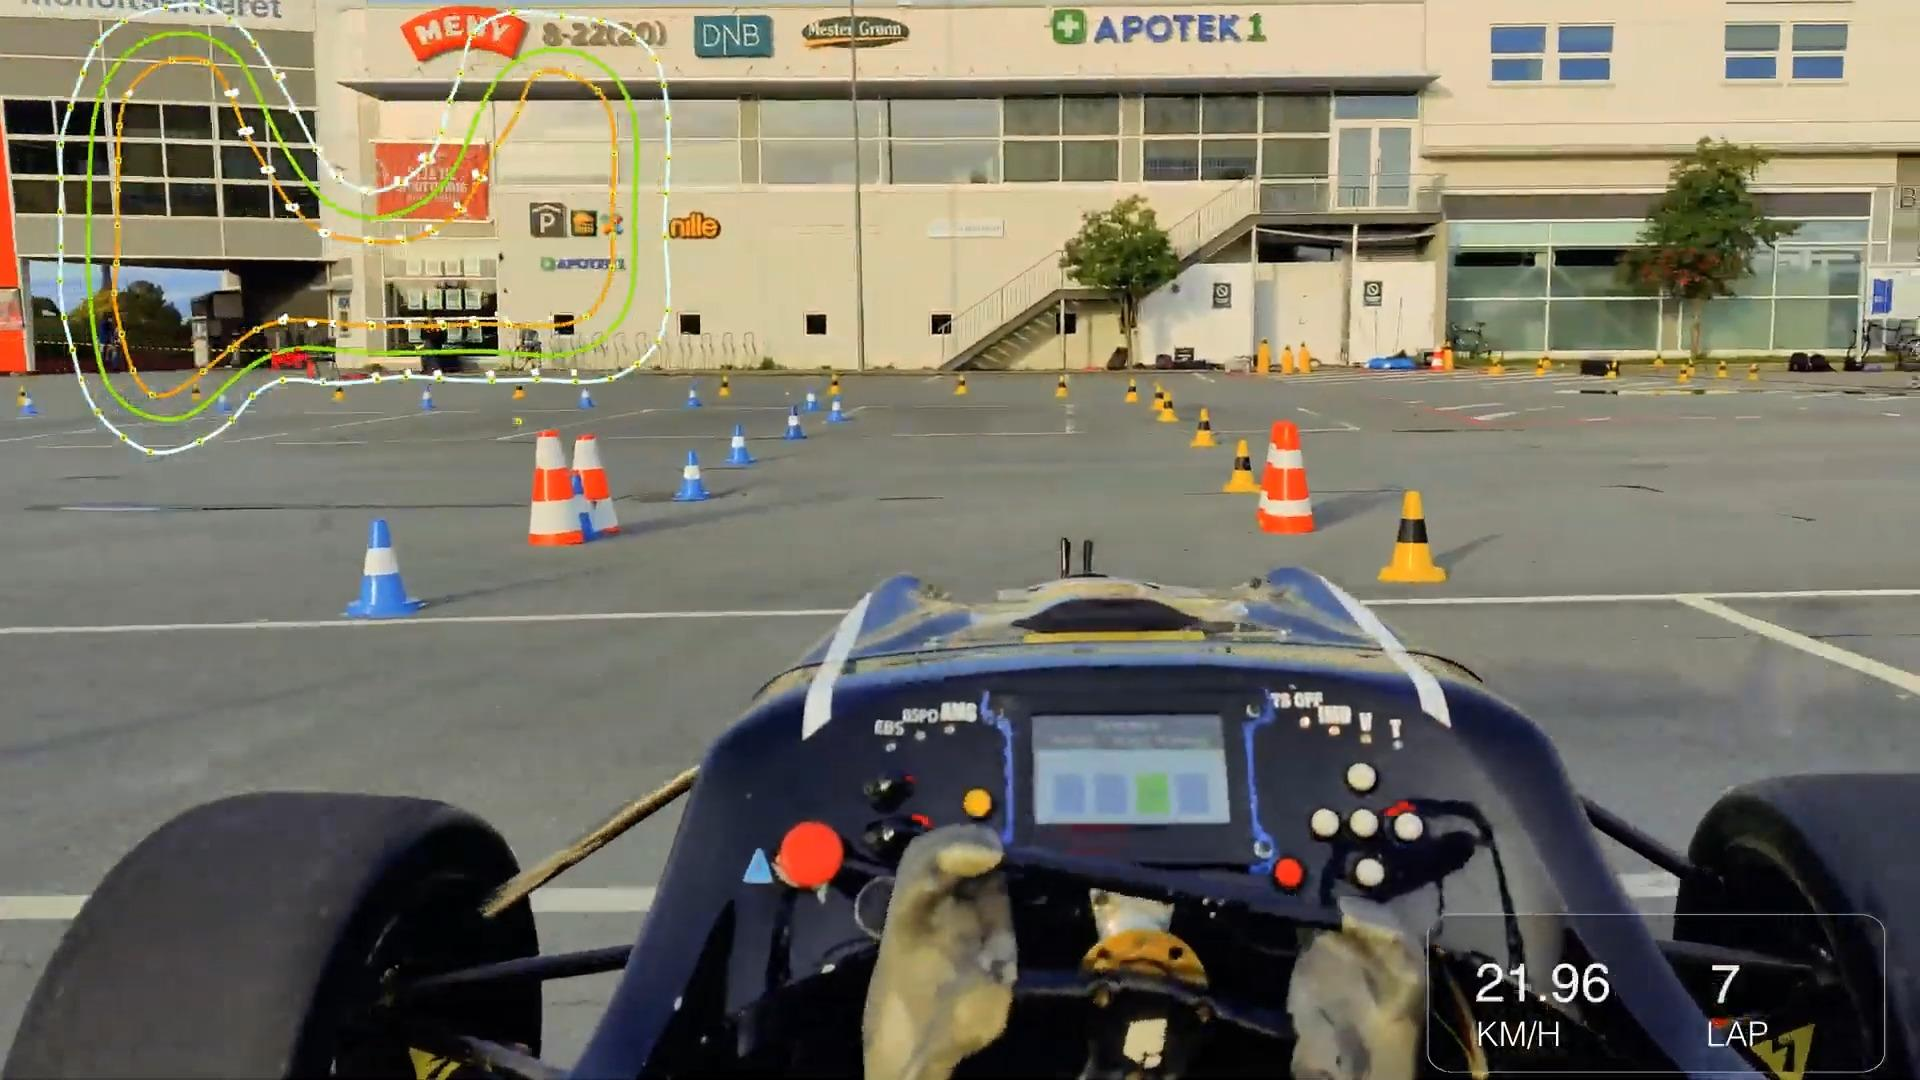blue_cone: (345, 520, 427, 617), (562, 473, 599, 538), (675, 450, 707, 501), (725, 423, 754, 467), (783, 405, 806, 440), (686, 384, 704, 406), (579, 385, 596, 409), (829, 396, 845, 419), (806, 388, 820, 411)
large_orange_cone: (526, 430, 587, 547), (560, 434, 622, 537), (1263, 423, 1313, 533)
yellow_cone: (1381, 488, 1451, 582), (1225, 440, 1262, 493), (1192, 409, 1218, 447), (1158, 392, 1180, 423), (1153, 384, 1168, 410), (1126, 378, 1142, 404)
